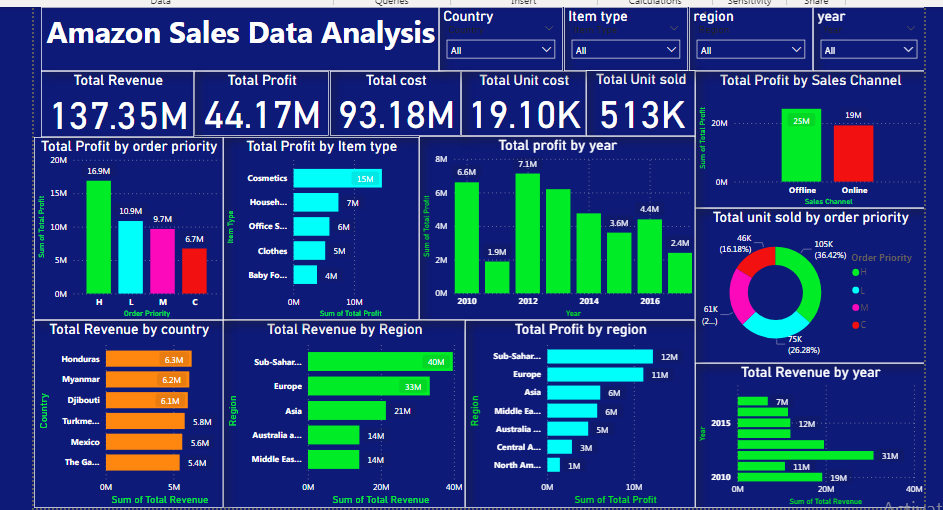

What the dashboard file says about the page in this screenshot:
{"tool":"powerbi","page":{"name":"Page 1","canvas":[1280,720],"ordinal":0},"visuals":[{"type":"textbox","box":[10.1,0,572,92],"z":0},{"type":"card","title":"Total Profit","fields":{"Values":["Sum(Sheet1.Total Profit)"]},"box":[229.9,92,194,93.4],"z":1},{"type":"card","title":"Total Revenue","fields":{"Values":["Sum(Sheet1.Total Revenue)"]},"box":[10.1,92,219.9,94.9],"z":2},{"type":"card","title":"Total cost","fields":{"Values":["Sum(Sheet1.Total Cost)"]},"box":[425.4,92,188.3,93.4],"z":3},{"type":"card","title":"Total Unit cost","fields":{"Values":["Sum(Sheet1.Unit Cost)"]},"box":[613.7,92,179.6,93.4],"z":4},{"type":"card","title":"Total Unit sold","fields":{"Values":["Sum(Sheet1.Units Sold)"]},"box":[793.3,90.5,156.6,94.9],"z":5},{"type":"columnChart","title":" Total Profit by Sales Channel","fields":{"Category":["Sheet1.Sales Channel"],"Y":["Sum(Sheet1.Total Profit)"]},"box":[949.9,92,330.5,196.9],"z":6},{"type":"columnChart","title":" Total Profit by order priority","fields":{"Y":["Sum(Sheet1.Total Profit)"],"Category":["Sheet1.Order Priority"]},"box":[0,186.8,271.6,263],"z":7},{"type":"barChart","title":"Total Revenue by Region","fields":{"Category":["Sheet1.Region"],"Y":["Sum(Sheet1.Total Revenue)"]},"box":[271.6,449.8,347.8,270.2],"z":8},{"type":"clusteredBarChart","title":" Total Profit by Item type","fields":{"Category":["Sheet1.Item Type"],"Y":["Sum(Sheet1.Total Profit)"]},"box":[271.6,186.8,281.7,263],"z":9},{"type":"barChart","title":" Total Revenue by country","fields":{"Category":["Sheet1.Country"],"Y":["Sum(Sheet1.Total Revenue)"]},"box":[0,449.8,271.6,270.2],"z":10},{"type":"donutChart","title":" Total unit sold by order priority","fields":{"Category":["Sheet1.Order Priority"],"Y":["Sum(Sheet1.Units Sold)"]},"box":[949.9,288.9,330.5,222.8],"z":11},{"type":"slicer","title":"Country","fields":{"Values":["Sheet1.Country"]},"box":[582,0,178.2,92],"z":12},{"type":"slicer","title":"Item type","fields":{"Values":["Sheet1.Item Type"]},"box":[761.7,0,178.2,92],"z":13},{"type":"slicer","title":"region","fields":{"Values":["Sheet1.Region"]},"box":[941.3,0,178.2,92],"z":14},{"type":"columnChart","title":" Total profit by year","fields":{"Category":["Sheet1.Year"],"Y":["Sum(Sheet1.Total Profit)"]},"box":[553.3,185.4,396.6,264.4],"z":15},{"type":"slicer","title":"year","fields":{"Values":["Sheet1.Year"]},"box":[1119.5,0,161,92],"z":16},{"type":"clusteredBarChart","title":" Total Profit by region","fields":{"Category":["Sheet1.Region"],"Y":["Sum(Sheet1.Total Profit)"]},"box":[619.4,449.8,330.5,270.2],"z":17},{"type":"barChart","title":"Total Revenue by year","fields":{"Y":["Sum(Sheet1.Total Revenue)"],"Category":["Sheet1.Year"]},"box":[949.9,511.6,330.5,208.4],"z":18}]}

Visuals, with their boxes in screenshot pixels (x1, y1, x2, y2):
textbox: select_region(37, 5, 437, 69)
"Total Profit" card: select_region(190, 69, 326, 135)
"Total Revenue" card: select_region(37, 69, 190, 136)
"Total cost" card: select_region(327, 69, 459, 135)
"Total Unit cost" card: select_region(459, 69, 584, 135)
"Total Unit sold" card: select_region(584, 68, 694, 135)
" Total Profit by Sales Channel" columnChart: select_region(694, 69, 925, 207)
" Total Profit by order priority" columnChart: select_region(29, 136, 219, 320)
"Total Revenue by Region" barChart: select_region(219, 320, 463, 509)
" Total Profit by Item type" clusteredBarChart: select_region(219, 136, 417, 320)
" Total Revenue by country" barChart: select_region(29, 320, 219, 509)
" Total unit sold by order priority" donutChart: select_region(694, 207, 925, 363)
"Country" slicer: select_region(437, 5, 561, 69)
"Item type" slicer: select_region(562, 5, 687, 69)
"region" slicer: select_region(688, 5, 813, 69)
" Total profit by year" columnChart: select_region(417, 135, 694, 320)
"year" slicer: select_region(813, 5, 925, 69)
" Total Profit by region" clusteredBarChart: select_region(463, 320, 694, 509)
"Total Revenue by year" barChart: select_region(694, 363, 925, 509)
